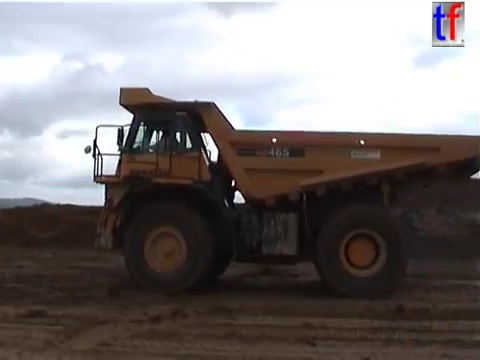truck: (82, 84, 479, 301)
